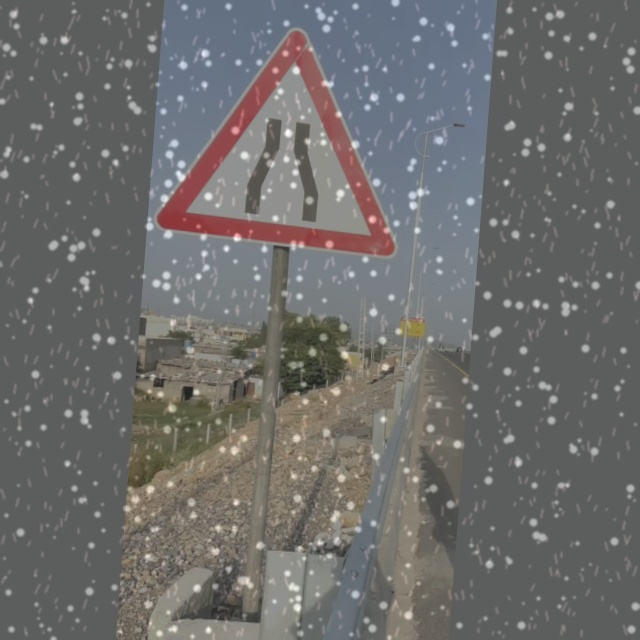Narrow_Road_Ahead: (169, 19, 413, 259)
